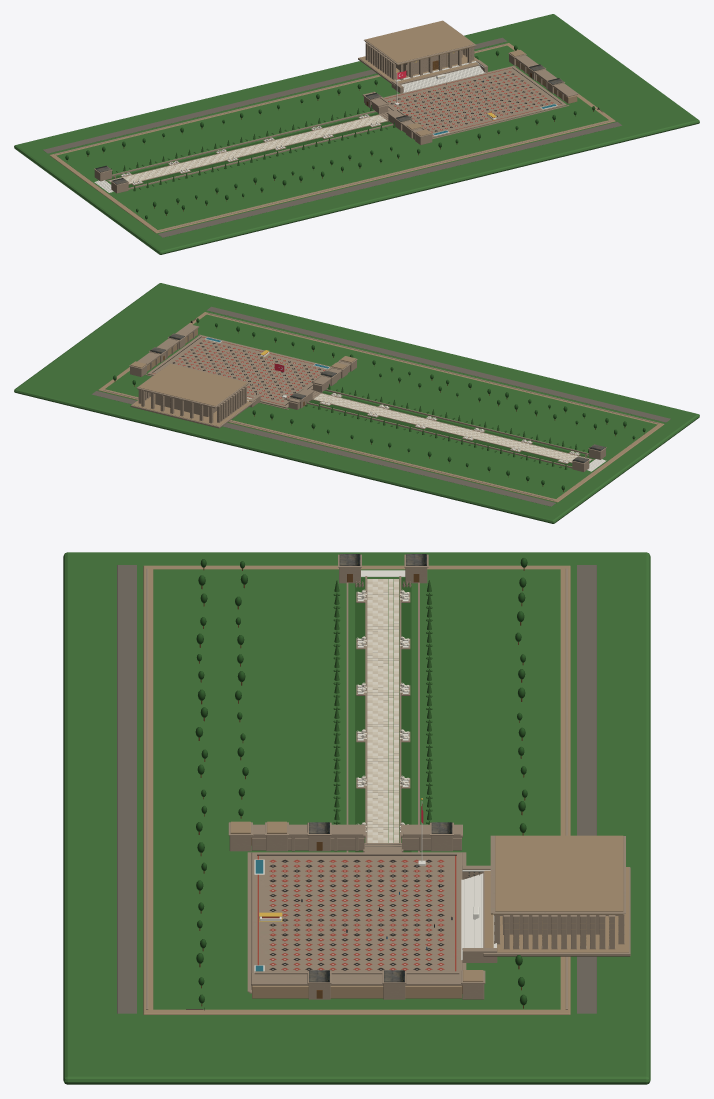
File: anitkabir.glb
3 views of the same model, one above another, from view 1: azimuth 30°, elevation 25°; view 2: azimuth 150°, elevation 25°; view 3: azimuth 270°, elevation 25° (orthographic). The views are drawn at different scales.
Parts seen in each view (by area): view 1: Anit_Blok_Cim_Ici, Anittepe_Zemin, Toren_Meydani_Tabani, Anit_Blok_Terasi, Yeni_Aslanli_Servis_Yolu, Mozole_Kursun_Catisi, Yeni_Aslanli_Servis_Yolu.001, Yol_Traverten_Karo_Grubu_1, Yol_Traverten_Karo_Grubu_3, Yol_Traverten_Karo_Grubu_2, Yeni_Aslanli_Gul_Ardic_Seridi, Yeni_Aslanli_Park_Siniri (+6 smaller); view 2: Anit_Blok_Cim_Ici, Anittepe_Zemin, Toren_Meydani_Tabani, Anit_Blok_Terasi, Yeni_Aslanli_Servis_Yolu, Mozole_Kursun_Catisi, Yeni_Aslanli_Servis_Yolu.001, Yol_Traverten_Karo_Grubu_1, Yol_Traverten_Karo_Grubu_3, Yol_Traverten_Karo_Grubu_2, Yeni_Aslanli_Gul_Ardic_Seridi.001, Podyum_Silmesi (+7 smaller); view 3: Anit_Blok_Cim_Ici, Anittepe_Zemin, Toren_Meydani_Tabani, Anit_Blok_Terasi, Mozole_Kursun_Catisi, Yeni_Aslanli_Servis_Yolu, Yeni_Aslanli_Servis_Yolu.001, Yol_Traverten_Karo_Grubu_1, Yol_Traverten_Karo_Grubu_2, Yol_Traverten_Karo_Grubu_3, Podyum_Silmesi, Yan_Galeri_Govde.001 (+9 smaller).
Boxes of the visible parts, x1=… form: Anit_Blok_Cim_Ici: x1=56, y1=45, x2=608, y2=229; Anittepe_Zemin: x1=14, y1=14, x2=699, y2=254; Toren_Meydani_Tabani: x1=383, y1=66, x2=566, y2=137; Anit_Blok_Terasi: x1=49, y1=43, x2=615, y2=233; Yeni_Aslanli_Servis_Yolu: x1=158, y1=122, x2=621, y2=237; Mozole_Kursun_Catisi: x1=365, y1=20, x2=474, y2=62; Yeni_Aslanli_Servis_Yolu.001: x1=43, y1=37, x2=507, y2=153; Yol_Traverten_Karo_Grubu_1: x1=114, y1=115, x2=386, y2=182; Yol_Traverten_Karo_Grubu_3: x1=110, y1=116, x2=385, y2=183; Yol_Traverten_Karo_Grubu_2: x1=109, y1=115, x2=384, y2=183; Yeni_Aslanli_Gul_Ardic_Seridi: x1=128, y1=121, x2=391, y2=187; Yeni_Aslanli_Park_Siniri: x1=159, y1=120, x2=610, y2=231; Anit_Blok_Cim_Ici: x1=105, y1=314, x2=657, y2=498; Anittepe_Zemin: x1=14, y1=283, x2=699, y2=523; Toren_Meydani_Tabani: x1=147, y1=335, x2=329, y2=408; Anit_Blok_Terasi: x1=98, y1=312, x2=664, y2=502; Yeni_Aslanli_Servis_Yolu: x1=206, y1=306, x2=670, y2=422; Mozole_Kursun_Catisi: x1=138, y1=363, x2=247, y2=405; Yeni_Aslanli_Servis_Yolu.001: x1=92, y1=391, x2=555, y2=506; Yol_Traverten_Karo_Grubu_1: x1=315, y1=393, x2=591, y2=461; Yol_Traverten_Karo_Grubu_3: x1=314, y1=394, x2=590, y2=462; Yol_Traverten_Karo_Grubu_2: x1=314, y1=395, x2=588, y2=460; Yeni_Aslanli_Gul_Ardic_Seridi.001: x1=309, y1=400, x2=572, y2=465; Podyum_Silmesi: x1=132, y1=394, x2=251, y2=426; Anit_Blok_Cim_Ici: x1=153, y1=569, x2=560, y2=1009; Anittepe_Zemin: x1=63, y1=552, x2=650, y2=1084; Toren_Meydani_Tabani: x1=251, y1=852, x2=462, y2=989; Anit_Blok_Terasi: x1=143, y1=565, x2=570, y2=1014; Mozole_Kursun_Catisi: x1=495, y1=835, x2=623, y2=911; Yeni_Aslanli_Servis_Yolu: x1=117, y1=565, x2=136, y2=1013; Yeni_Aslanli_Servis_Yolu.001: x1=577, y1=565, x2=596, y2=1013; Yol_Traverten_Karo_Grubu_1: x1=367, y1=579, x2=398, y2=842; Yol_Traverten_Karo_Grubu_2: x1=367, y1=579, x2=398, y2=842; Yol_Traverten_Karo_Grubu_3: x1=367, y1=579, x2=398, y2=842; Podyum_Silmesi: x1=484, y1=867, x2=628, y2=952; Yan_Galeri_Govde.001: x1=252, y1=985, x2=461, y2=998.
Size of the model in its own units: 500 by 34.97 by 235.
26 materials, 2 textured.
